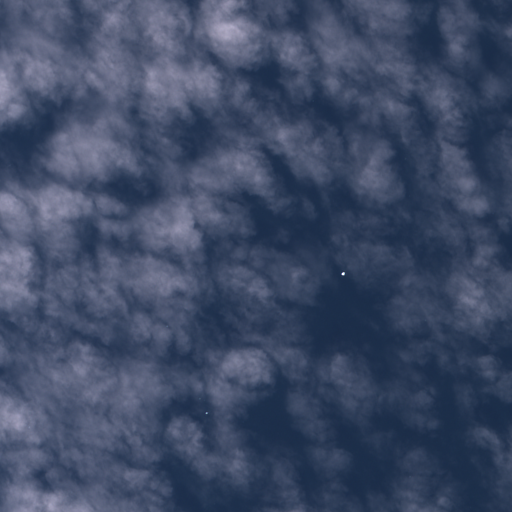Iceberg: (341, 272, 344, 275), (205, 412, 207, 413)
